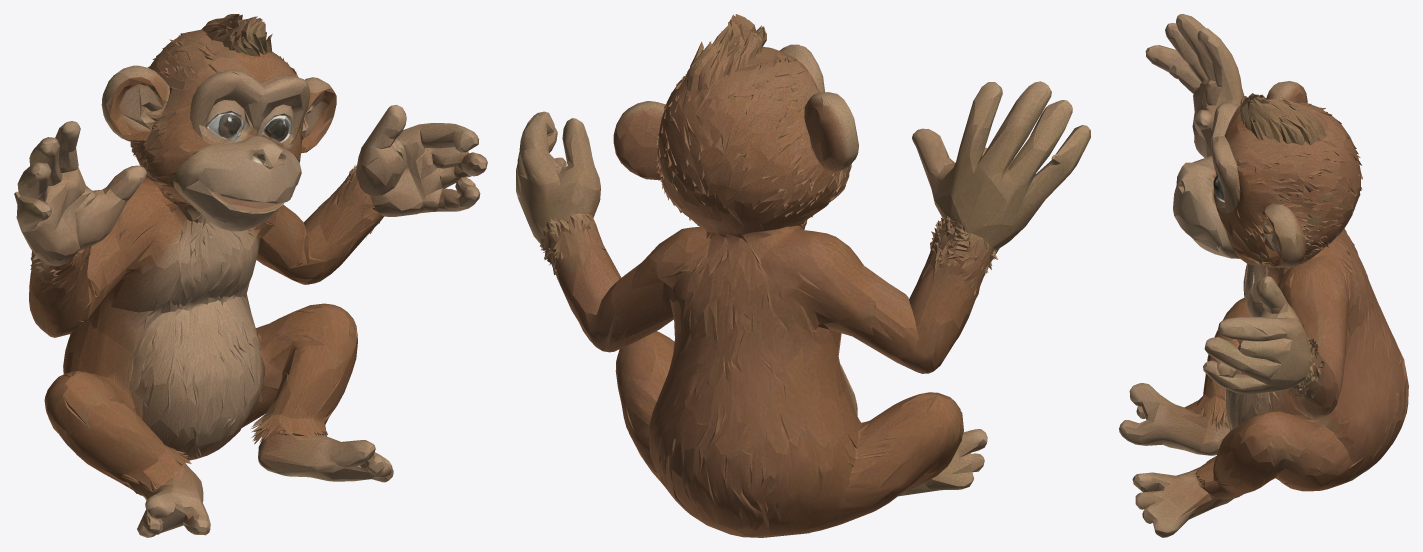
The model's file is scimmia.glb.
3 views of the same model, side by side, from view 1: azimuth 30°, elevation 25°; view 2: azimuth 150°, elevation 25°; view 3: azimuth 270°, elevation 25° (orthographic). The views are drawn at different scales.
Parts seen in each view (by area): view 1: Mesh_0; view 2: Mesh_0; view 3: Mesh_0.
Part boxes in pixels (x1=…): Mesh_0: x1=14, y1=14, x2=487, y2=537; Mesh_0: x1=516, y1=14, x2=1090, y2=537; Mesh_0: x1=1119, y1=14, x2=1408, y2=537.
Bounding box in the file's own units: 1.15 × 1 × 0.6434.
Materials: 1 (1 with a texture image).
